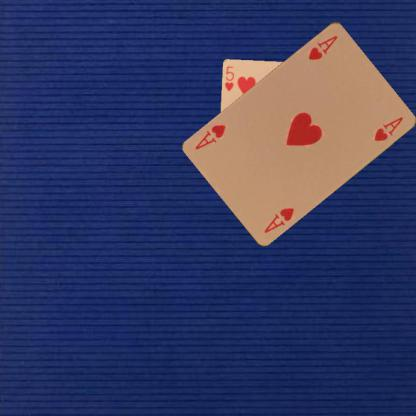5h: (223, 64, 235, 93)
Ah: (305, 32, 339, 62), (261, 205, 295, 234)
